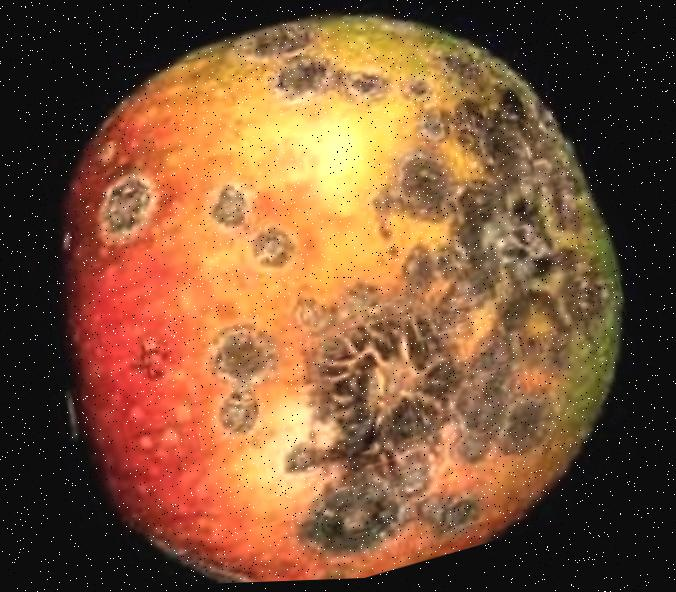SCAB: (6, 0, 676, 591)
